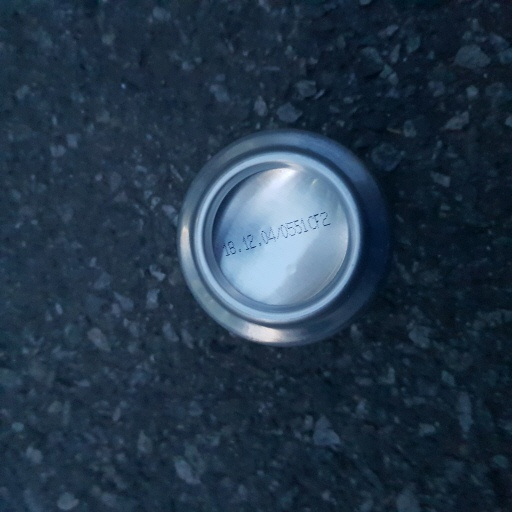Metal_0: (168, 129, 392, 348)
